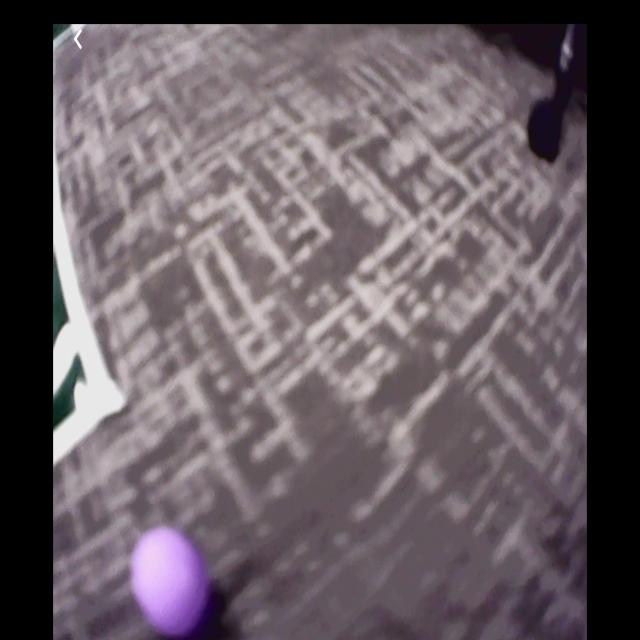ball: (133, 526, 208, 636)
